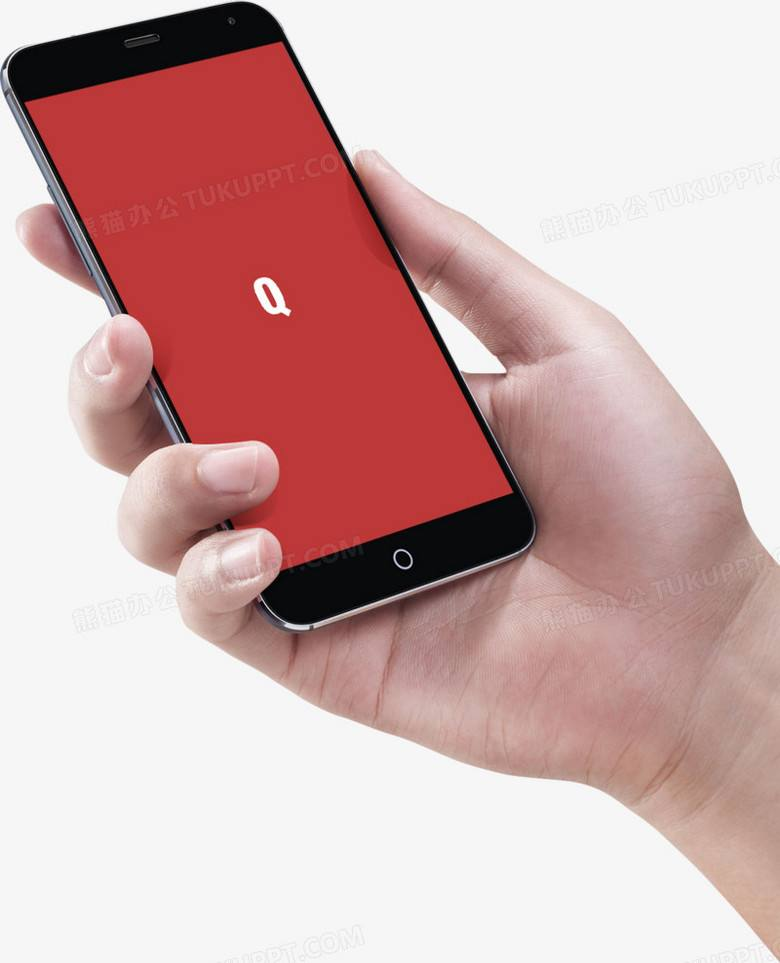phone: (1, 1, 765, 793)
